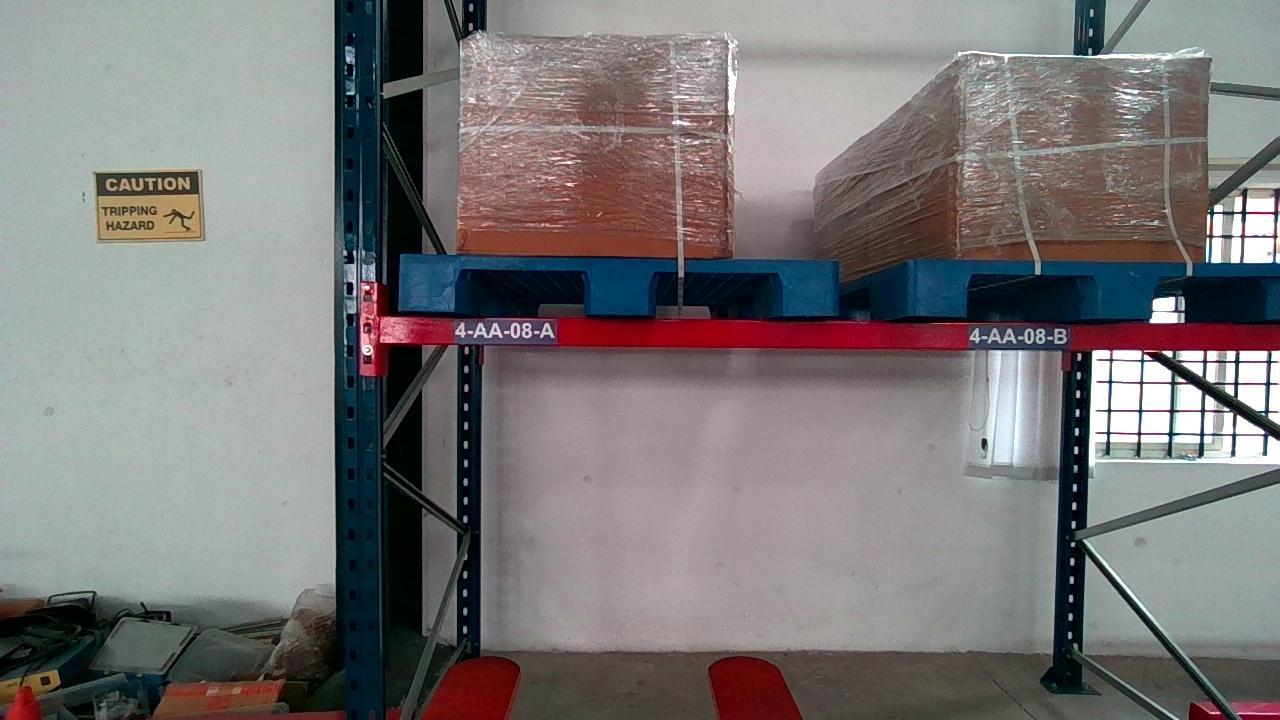h_rack: (379, 319, 1278, 351)
small_pallet: (400, 253, 836, 316), (912, 258, 1279, 320)
